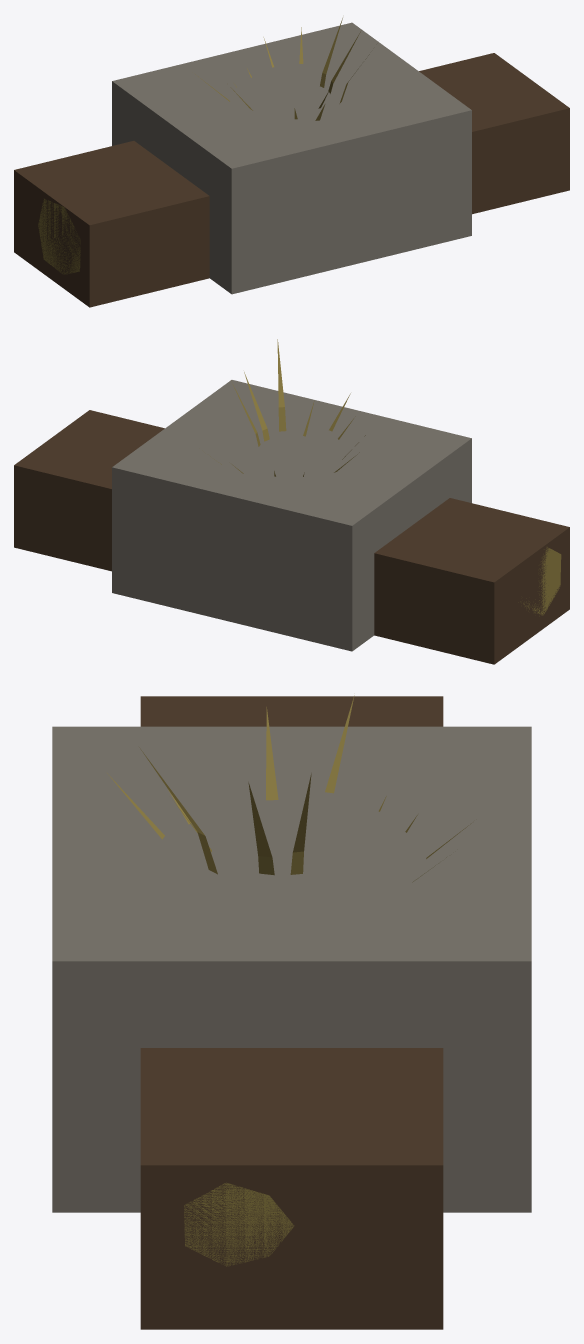
File: props_beach.glb
The picture shows the model from 3 angles, top to bottom: view 1: azimuth 30°, elevation 25°; view 2: azimuth 150°, elevation 25°; view 3: azimuth 270°, elevation 25°; orthographic projection. The views are drawn at different scales.
Parts seen in each view (by area): view 1: col_Beach_Rock, col_Beach_Driftwood, Beach_Driftwood_LOD0, Beach_DuneGrass_LOD0; view 2: col_Beach_Rock, col_Beach_Driftwood, Beach_DuneGrass_LOD0, Beach_Driftwood_LOD0; view 3: col_Beach_Rock, col_Beach_Driftwood, Beach_Driftwood_LOD0, Beach_DuneGrass_LOD0.
Boxes of the visible parts, bbox=[...] form: col_Beach_Rock: bbox=[112, 22, 471, 294]; col_Beach_Driftwood: bbox=[14, 53, 569, 307]; Beach_Driftwood_LOD0: bbox=[38, 198, 80, 274]; Beach_DuneGrass_LOD0: bbox=[195, 18, 369, 120]; col_Beach_Rock: bbox=[112, 380, 471, 651]; col_Beach_Driftwood: bbox=[14, 410, 569, 664]; Beach_DuneGrass_LOD0: bbox=[210, 339, 365, 476]; Beach_Driftwood_LOD0: bbox=[518, 547, 561, 616]; col_Beach_Rock: bbox=[52, 726, 531, 1212]; col_Beach_Driftwood: bbox=[140, 696, 443, 1329]; Beach_Driftwood_LOD0: bbox=[184, 1182, 294, 1266]; Beach_DuneGrass_LOD0: bbox=[107, 695, 471, 882].
Size of what is drawn, in the model's own units: 2.2 by 0.88 by 0.95.
